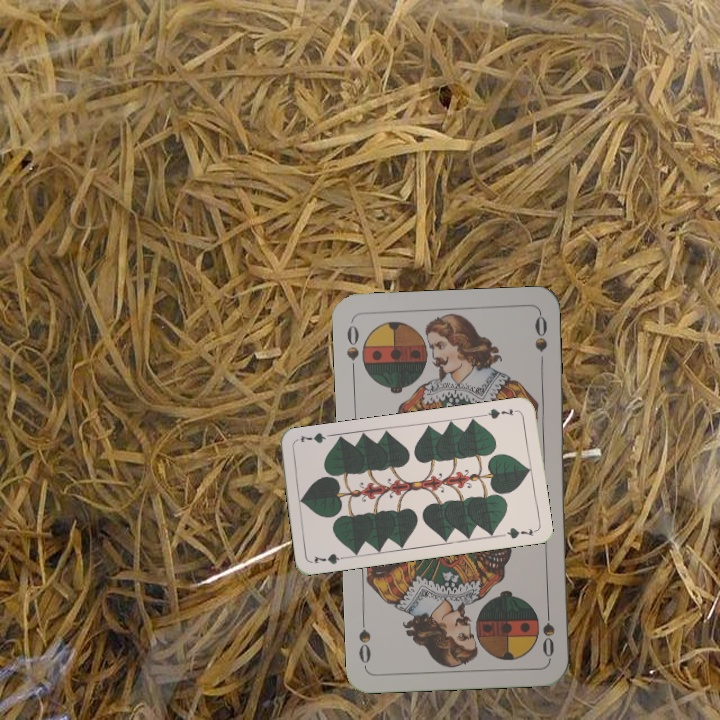G7: (310, 549, 350, 567), (480, 404, 520, 421)
SO: (538, 601, 557, 660), (343, 318, 361, 377)
